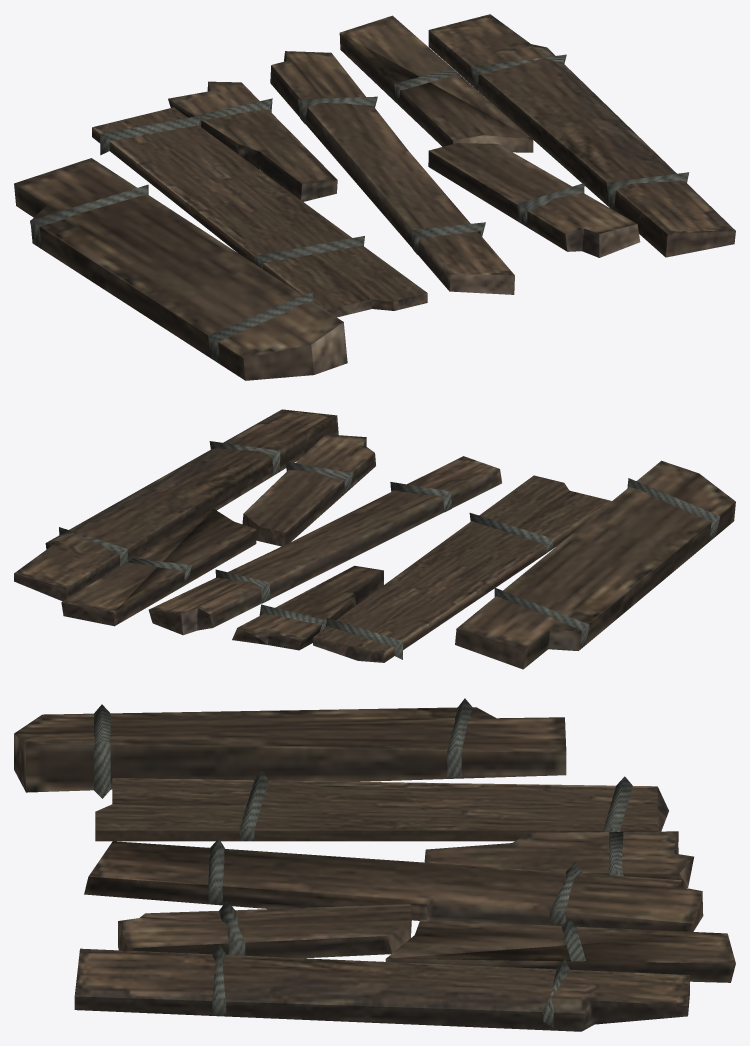
The model's file is mutou03.FBX.
The picture shows the model from 3 angles, top to bottom: view 1: azimuth 30°, elevation 25°; view 2: azimuth 150°, elevation 25°; view 3: azimuth 270°, elevation 25°; orthographic projection. The views are drawn at different scales.
Visible parts, largest first — view 1: polySurface1256; view 2: polySurface1256; view 3: polySurface1256.
Part boxes in pixels (<box>): polySurface1256: <box>14,14,735,380</box>; polySurface1256: <box>14,409,735,669</box>; polySurface1256: <box>14,698,735,1031</box>.
Bounding box in the file's own units: 29.82 × 2.55 × 29.34.
